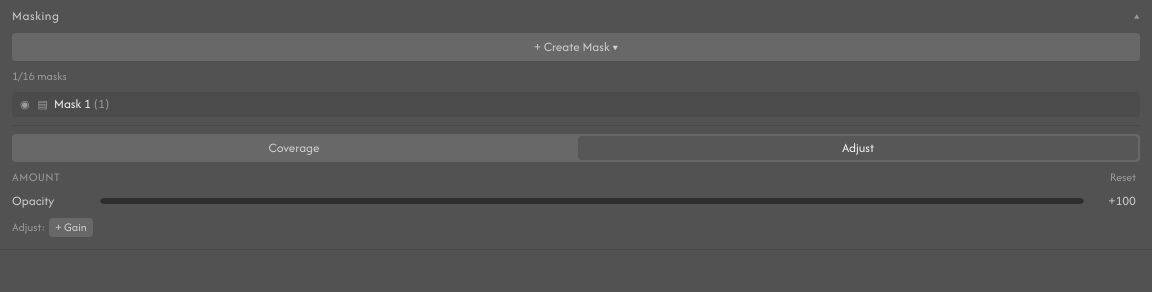
it: an extension panel in a mask's Adjust tab › adds to a mask on a photo at the current processing, seeding the mask's values
Click the button "+ Gain". click: point(71, 227)
box: 49,218 -> 93,236
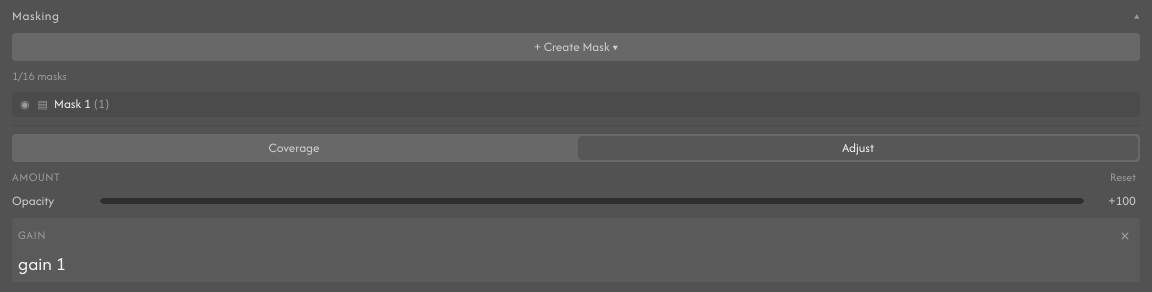
Now the text "gain 1" is shown, box 18,250 -> 66,276
